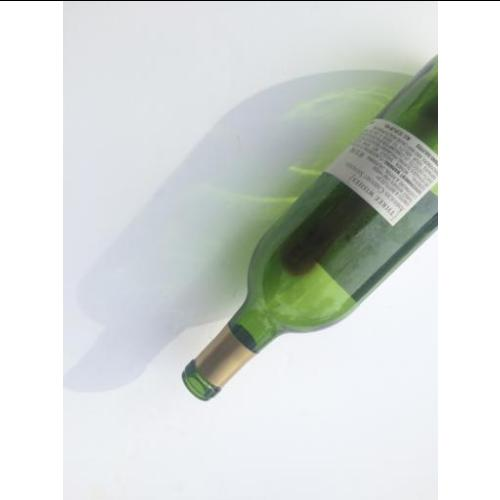glass: (195, 56, 438, 396)
